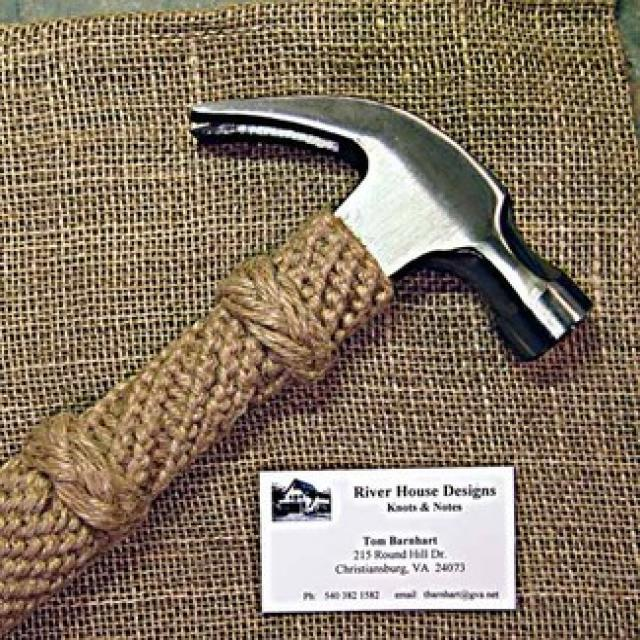hammer: (0, 83, 613, 596)
